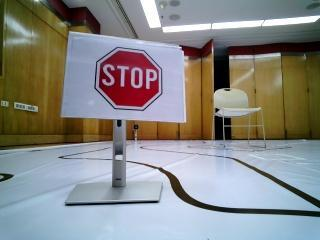stop: (70, 44, 179, 115)
